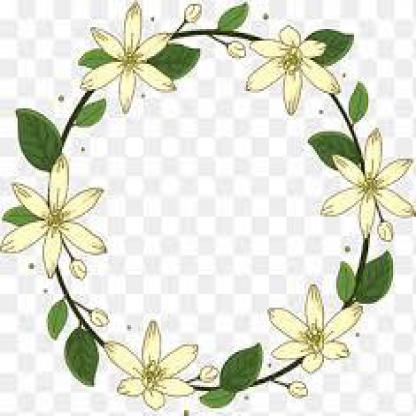Melati: (240, 284, 390, 413), (300, 117, 414, 255), (90, 303, 230, 415), (10, 146, 100, 282), (72, 17, 185, 112), (242, 15, 328, 102)
